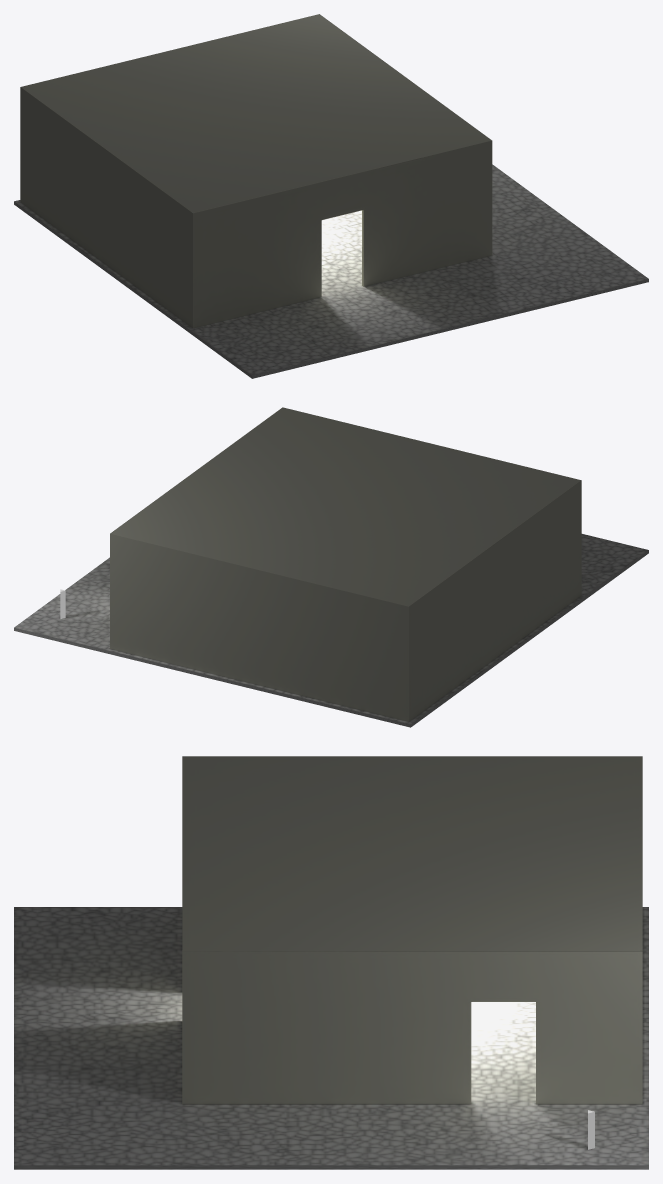
Rendered from emptyHouse.glb.
The picture shows the model from 3 angles, top to bottom: view 1: azimuth 30°, elevation 25°; view 2: azimuth 150°, elevation 25°; view 3: azimuth 270°, elevation 25°; orthographic projection. The views are drawn at different scales.
Visible parts, largest first — view 1: 立方體, Cube; view 2: 立方體, Cube; view 3: 立方體, Cube.
Part boxes in pixels (x1,y1,x2,y2): 立方體: [20, 14, 492, 328]; Cube: [14, 164, 648, 378]; 立方體: [110, 407, 581, 721]; Cube: [14, 534, 648, 727]; 立方體: [182, 756, 642, 1104]; Cube: [14, 907, 648, 1169].
Bounding box in the file's own units: 25.83 × 7.36 × 26.86.
4 materials, 2 textured.
